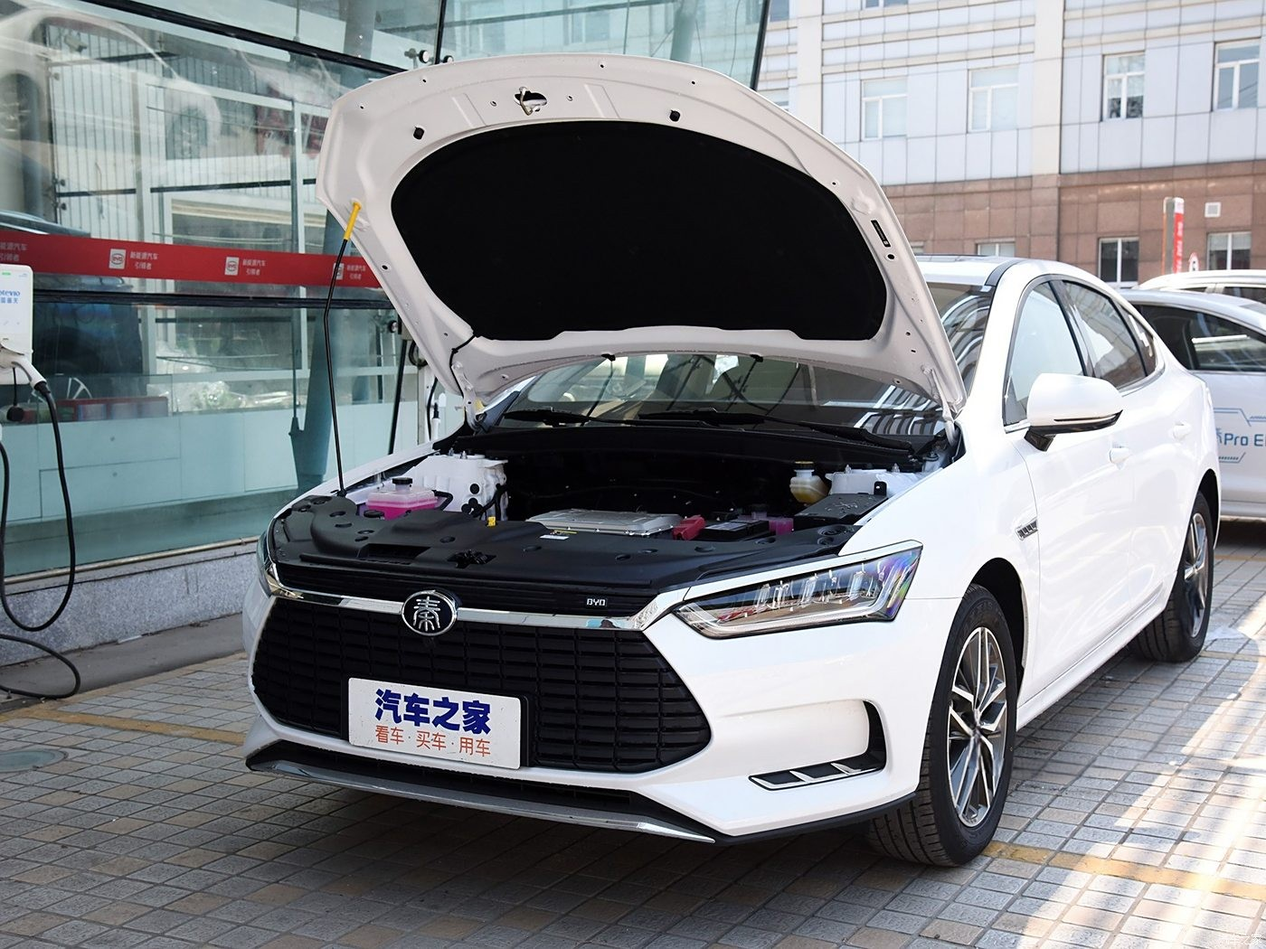BYD Qin: (402, 593, 455, 635)
